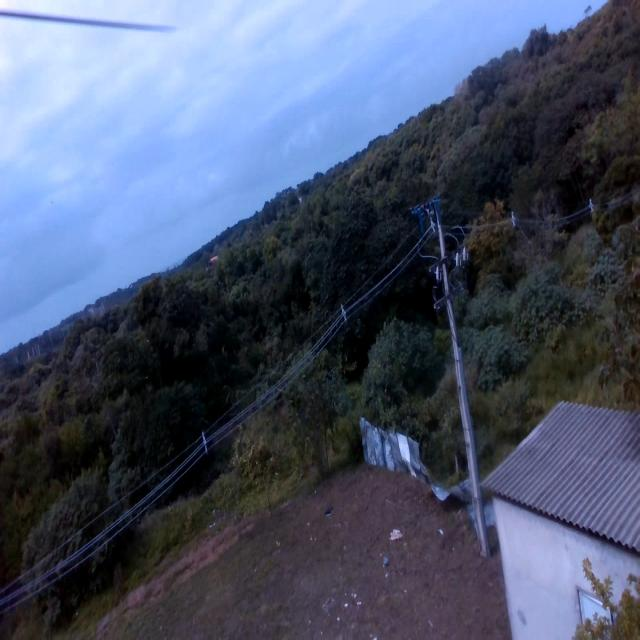-uav-: (401, 182, 457, 242)
